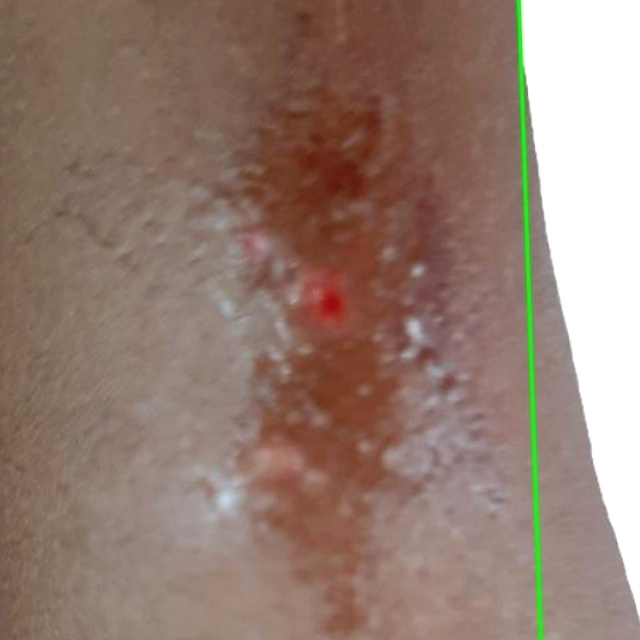Tinea Corporis: (519, 0, 639, 639)
